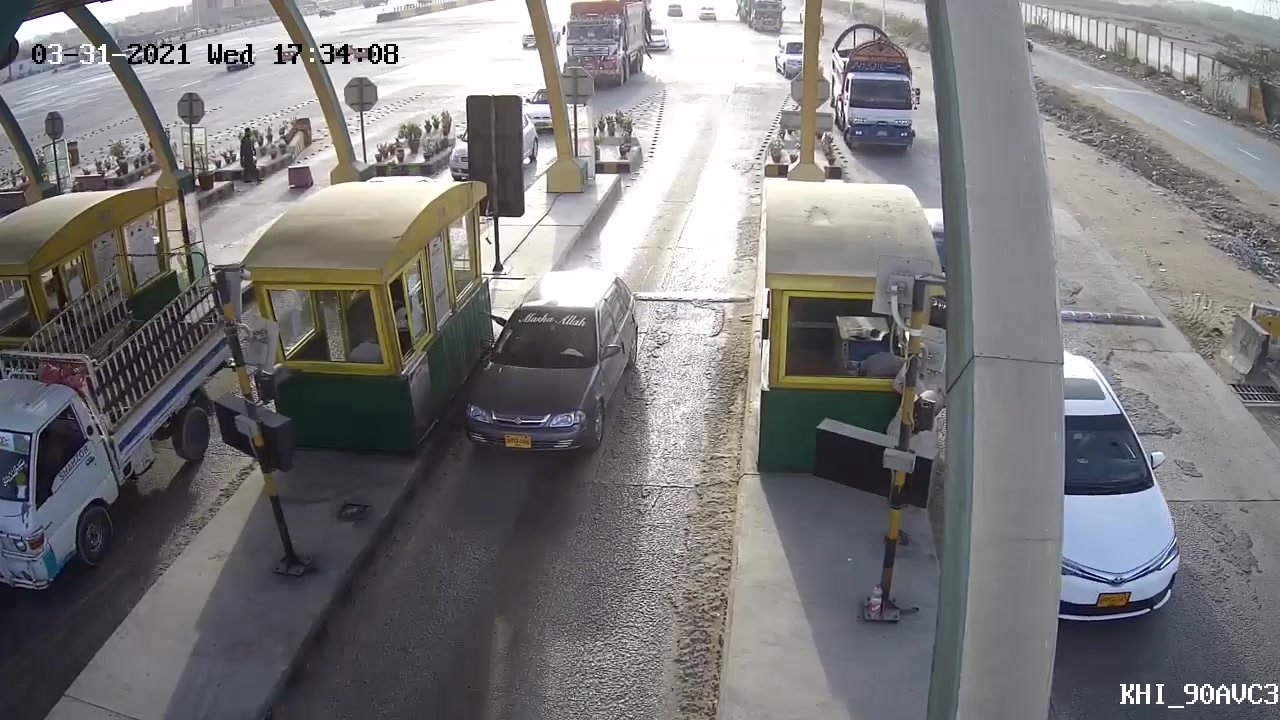F1: (470, 266, 638, 494)
